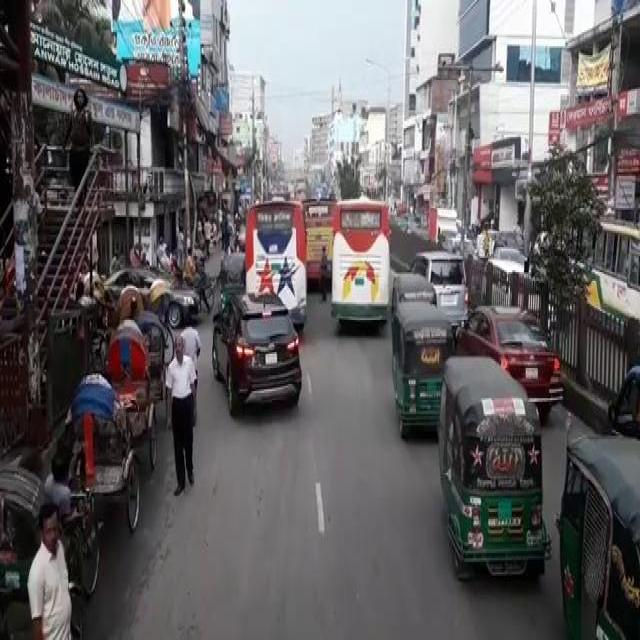bus: (568, 219, 638, 336), (244, 198, 306, 324), (328, 197, 390, 319), (302, 196, 332, 276)
car: (453, 302, 565, 409), (210, 290, 302, 410), (102, 267, 200, 327)
pickup: (425, 203, 459, 241)
rickshaw: (0, 462, 100, 626), (66, 369, 140, 531), (104, 314, 158, 468), (138, 311, 168, 418), (155, 242, 187, 284), (146, 278, 172, 319), (117, 284, 143, 324), (128, 242, 144, 266)
three wheelers -CNG-: (434, 352, 552, 576), (557, 434, 639, 636), (390, 298, 454, 434), (391, 268, 437, 304), (219, 251, 243, 304)
